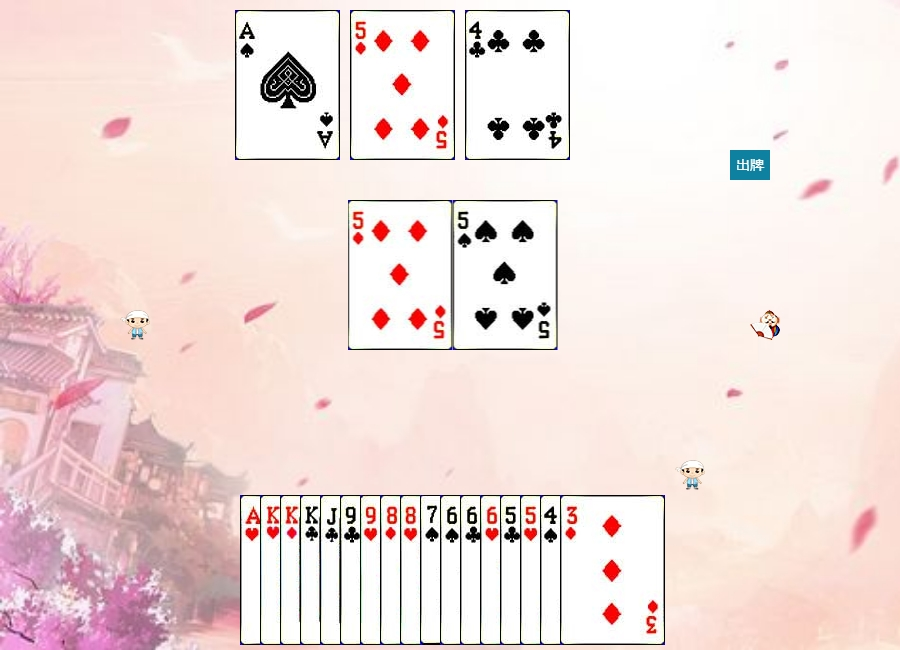11~2: (320, 495, 425, 645)
13~1: (280, 495, 385, 645)
13~2: (300, 495, 405, 645)
13~3: (260, 495, 365, 645)
14~3: (240, 495, 345, 645)
14~4: (235, 10, 340, 160)
3~1: (560, 495, 665, 645)
4~2: (465, 10, 570, 160)
4~4: (540, 495, 645, 645)
5~1: (350, 10, 455, 160), (348, 200, 453, 350)
5~2: (500, 495, 605, 645)
5~3: (520, 495, 625, 645)
5~4: (453, 200, 558, 350)
6~2: (460, 495, 565, 645)
6~3: (480, 495, 585, 645)
6~4: (440, 495, 545, 645)
7~4: (420, 495, 525, 645)
8~1: (380, 495, 485, 645)
8~3: (400, 495, 505, 645)
9~2: (340, 495, 445, 645)
9~3: (360, 495, 465, 645)
